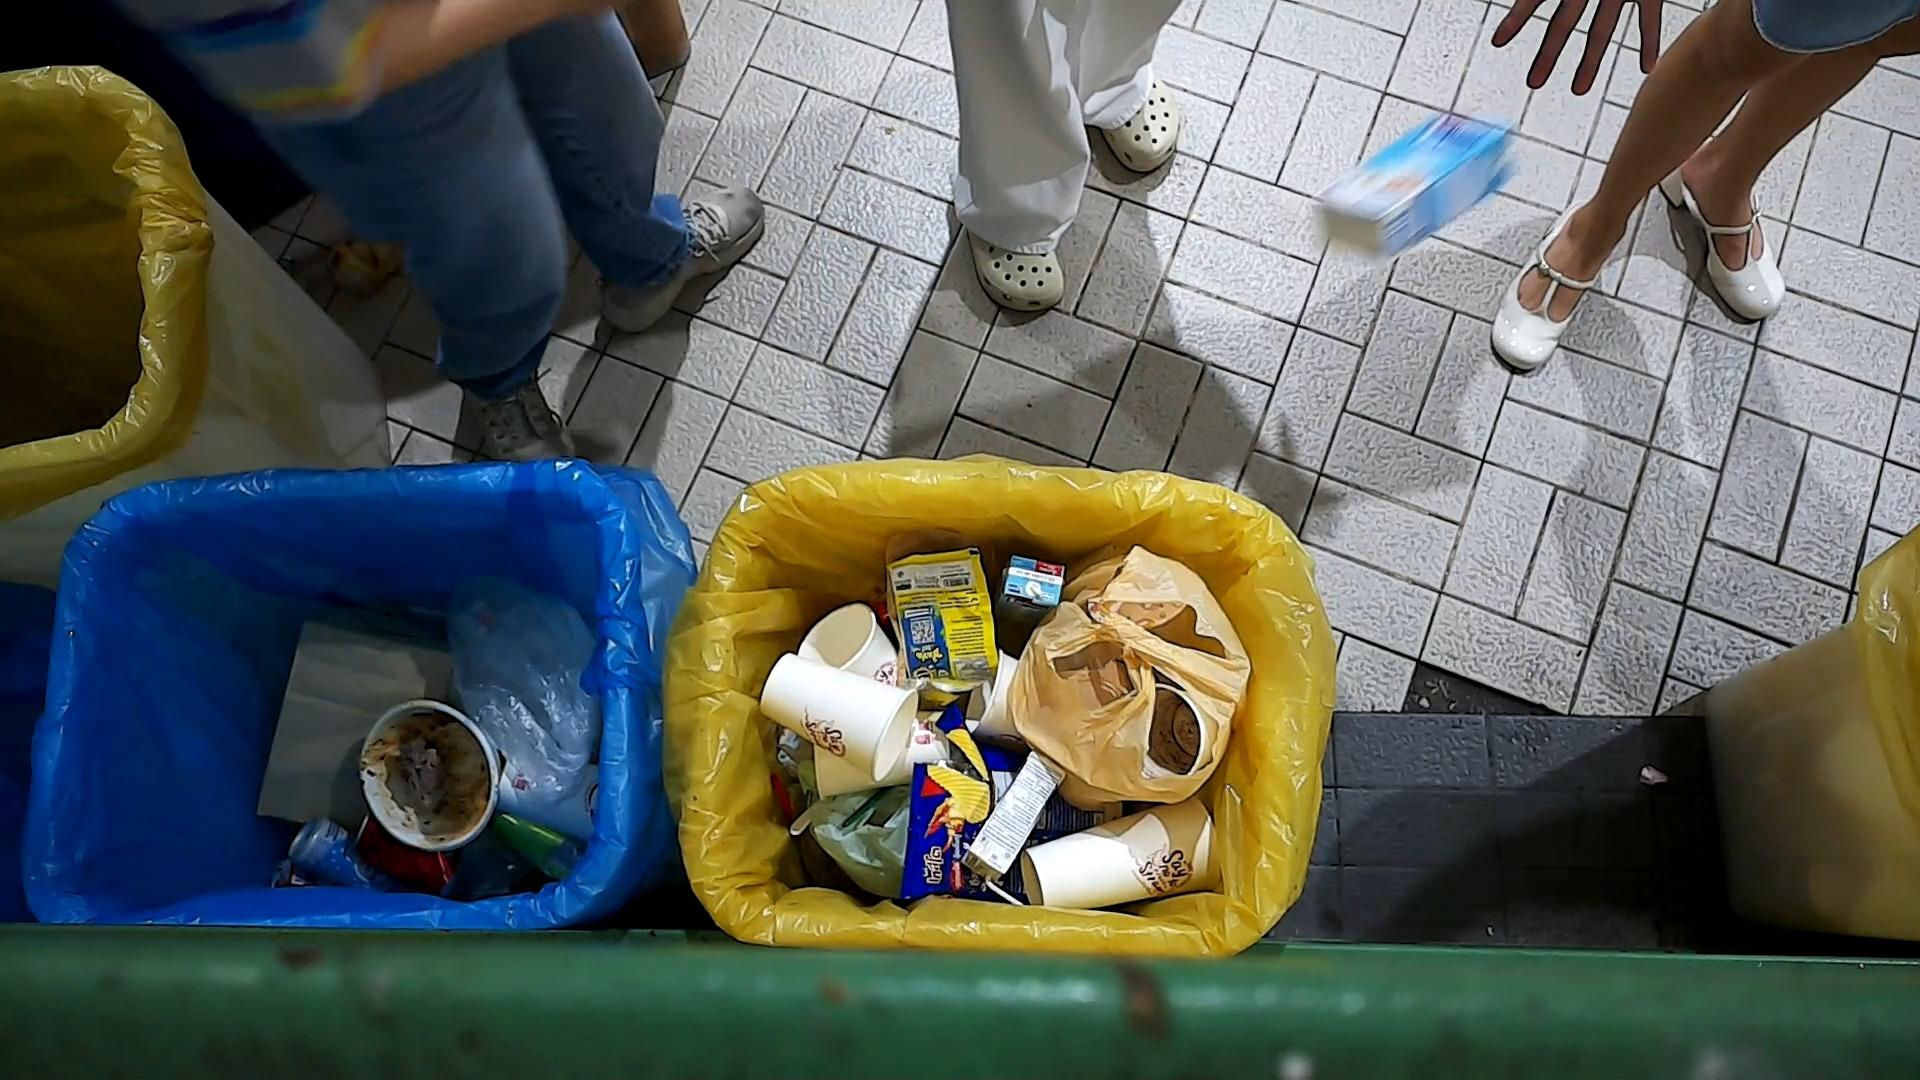can: (344, 806, 463, 898), (285, 812, 404, 895), (487, 808, 585, 884)
dirty food container: (356, 695, 504, 855)
filled plastic bag: (1006, 541, 1255, 816)
milk carton: (1304, 104, 1526, 277), (956, 750, 1072, 910), (993, 551, 1068, 630)
paper bag: (249, 617, 458, 847)
plastic bag: (442, 562, 601, 807)
snack packaging: (885, 550, 1002, 699)
zero waste cup: (1015, 795, 1226, 914), (754, 646, 919, 790), (492, 749, 604, 839)
